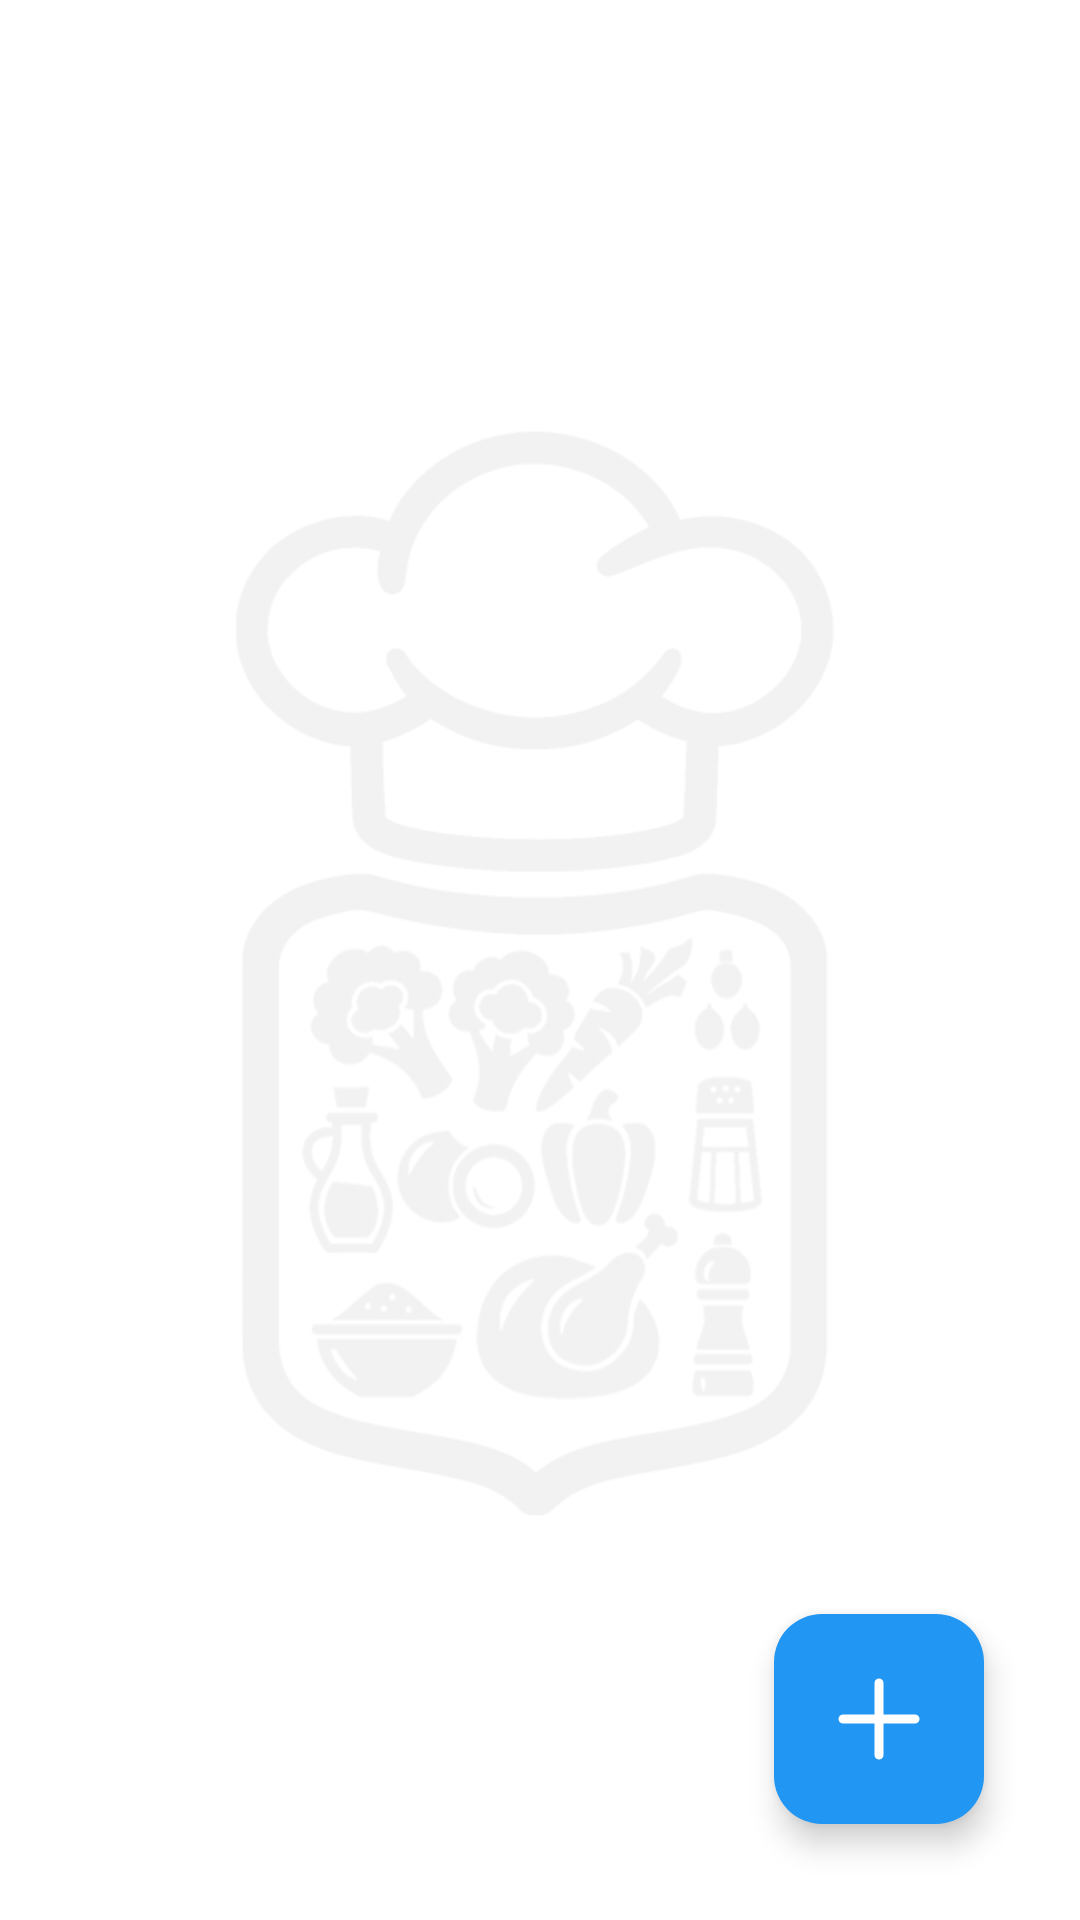

Where icons sit on this 1080x1920 app screen, as (x1, y1, x2, y2):
Botón nuevo ingrediente: (774, 1614, 984, 1824)
